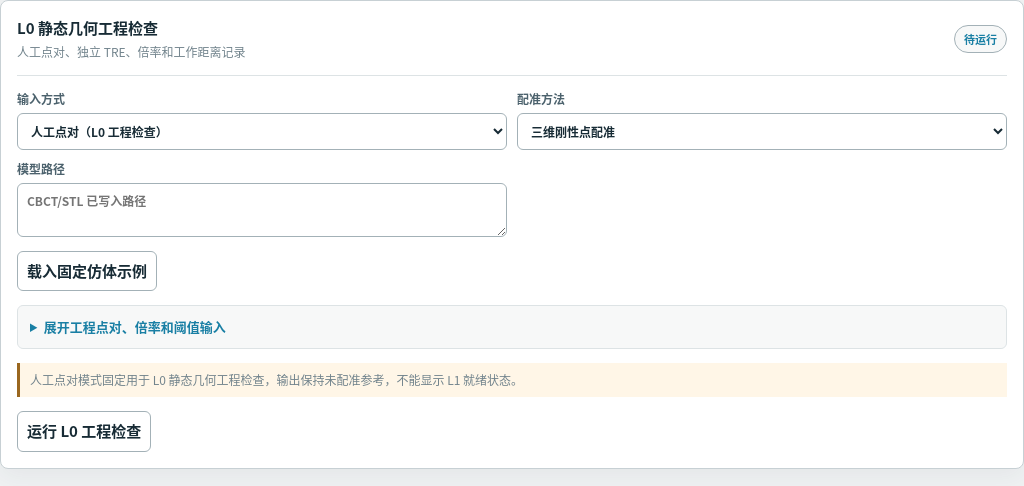
Test: L1RegistrationPanel › rejects an offline manifest without a valid SHA256
Select "离线 manifest（L1 证据校验）" in the dropdown with test id "registration-input-mode". click: (262, 131)
box: [17, 112, 507, 150]
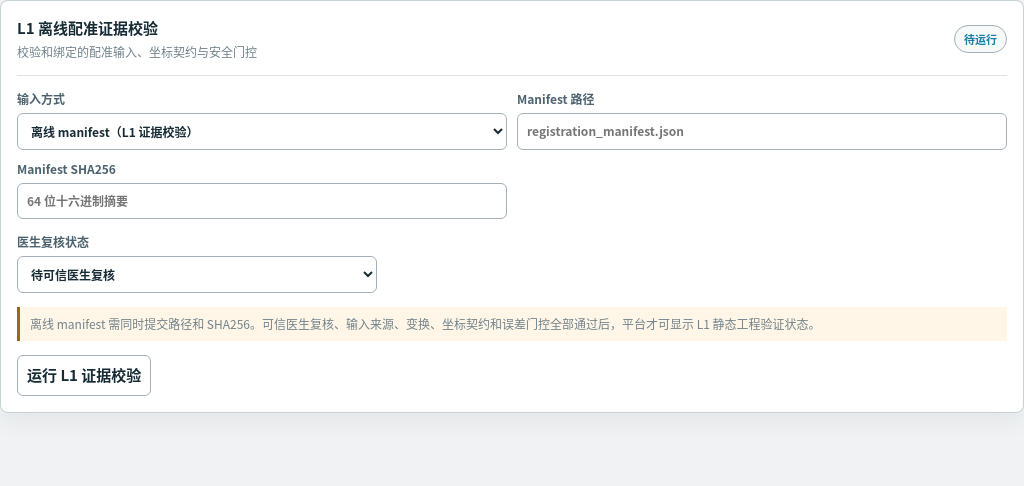
Type "registration_input.json" into the field with test id "registration-manifest-path". click: (762, 131)
box: [517, 113, 1007, 150]
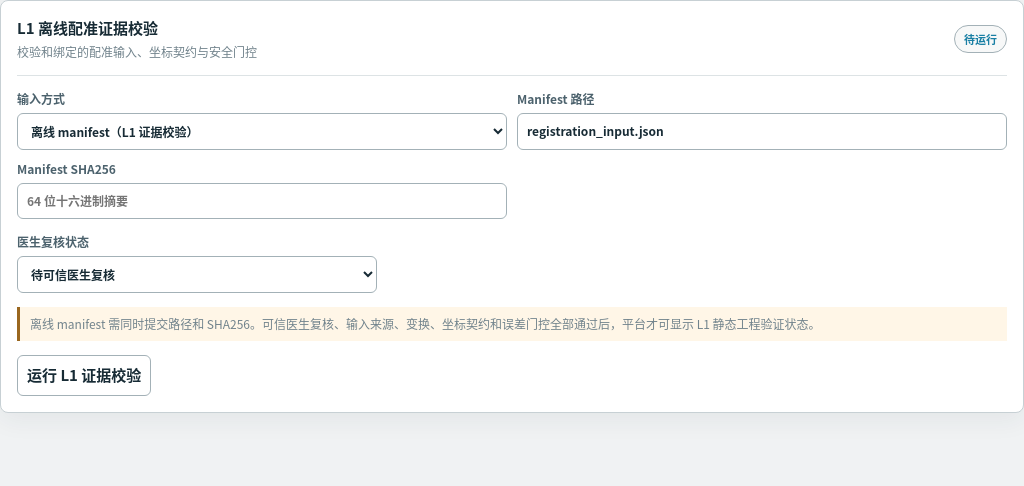
Type "invalid" into the field with test id "registration-manifest-sha256". click: (262, 200)
box: [17, 182, 507, 218]
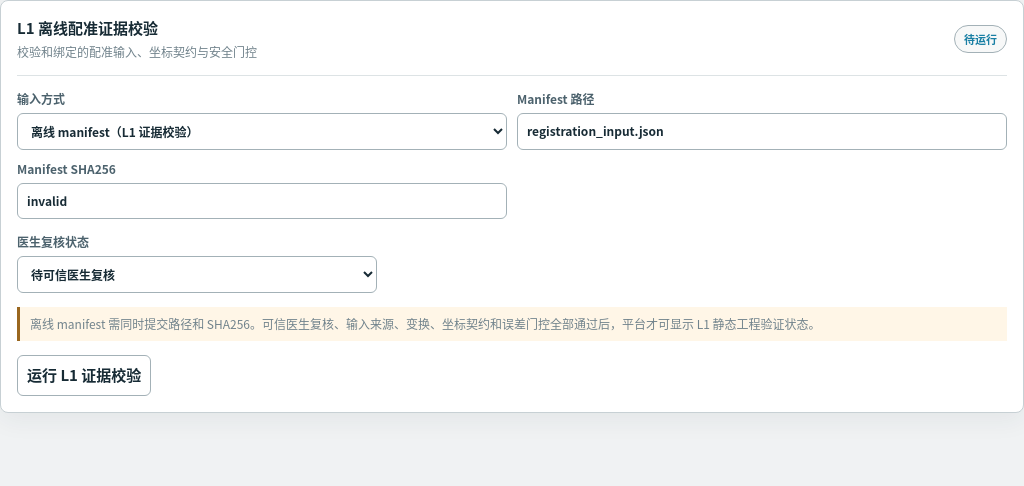
Click the button "运行 L1 证据校验". click: (84, 375)
box: [17, 355, 151, 396]
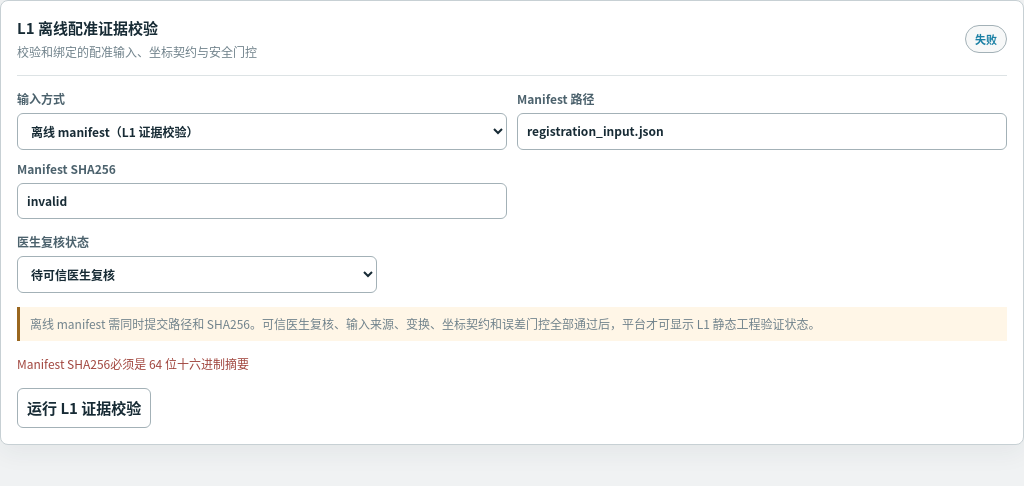
Now the message "Manifest SHA256必须是 64 位十六进制摘要" is shown, box [17, 355, 249, 372]
